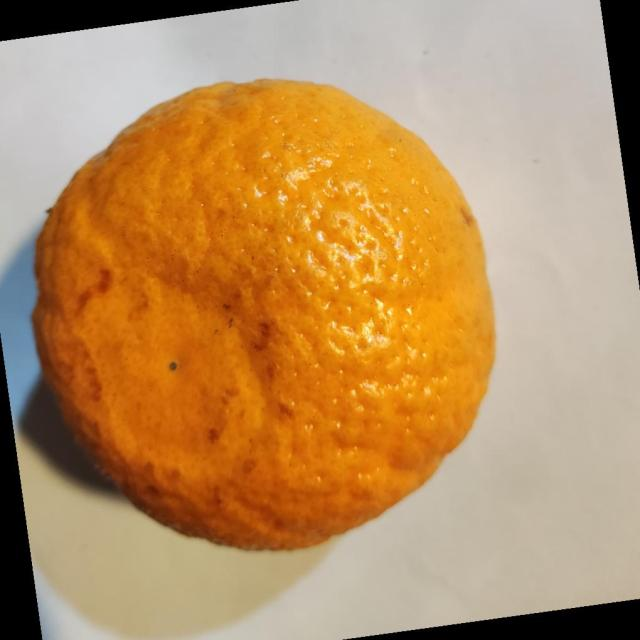fresh orange: (30, 76, 497, 551)
